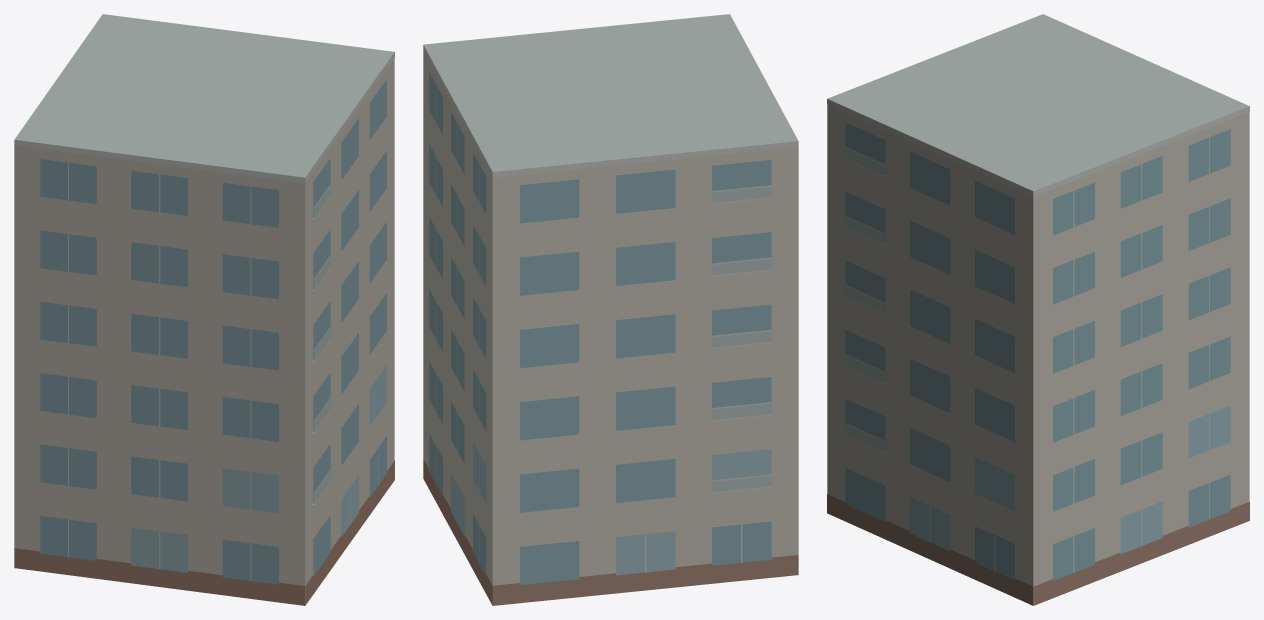
The model's file is survey-upis-32841545.glb.
The picture shows the model from 3 angles, left to right: view 1: azimuth 30°, elevation 25°; view 2: azimuth 150°, elevation 25°; view 3: azimuth 270°, elevation 25°; orthographic projection. The views are drawn at different scales.
Visible parts, largest first — view 1: survey-upis-32841545.tmp; view 2: survey-upis-32841545.tmp; view 3: survey-upis-32841545.tmp.
Part boxes in pixels (<box>): survey-upis-32841545.tmp: <box>14,14,394,605</box>; survey-upis-32841545.tmp: <box>423,14,798,605</box>; survey-upis-32841545.tmp: <box>827,14,1249,605</box>.
Bounding box in the file's own units: 16.8 × 18.3 × 16.91.
